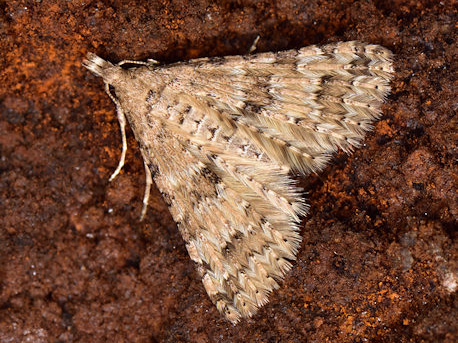Alucitidae: (68, 26, 395, 329)
moth: (70, 28, 397, 331)
